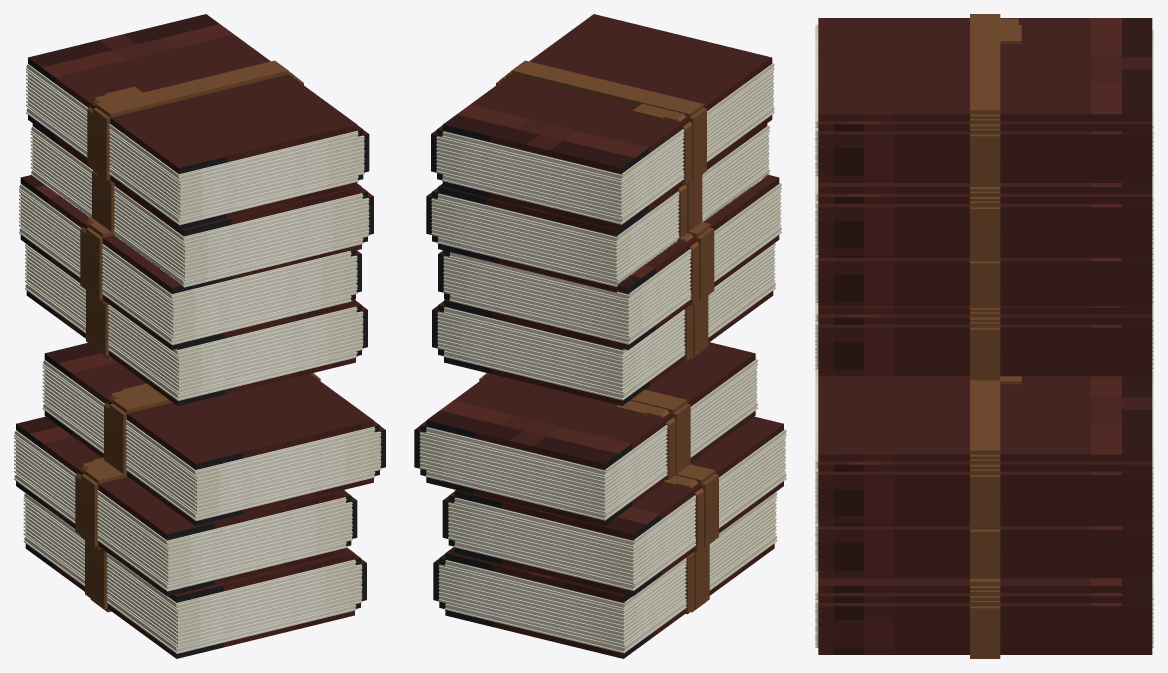
File: stack_of_books_7_2.gltf
3 views of the same model, side by side, from view 1: azimuth 30°, elevation 25°; view 2: azimuth 150°, elevation 25°; view 3: azimuth 270°, elevation 25° (orthographic). The views are drawn at different scales.
Parts seen in each view (by area): view 1: cube (×161); view 2: cube (×208); view 3: cube (×42).
Part boxes in pixels (x1,y1,x2,y2): cube (×161): [14, 14, 381, 658]; cube (×208): [419, 14, 786, 658]; cube (×42): [818, 14, 1152, 654].
Bounding box in the file's own units: 0.5938 × 1.25 × 0.6969.
Materials: 3 (3 with a texture image).
